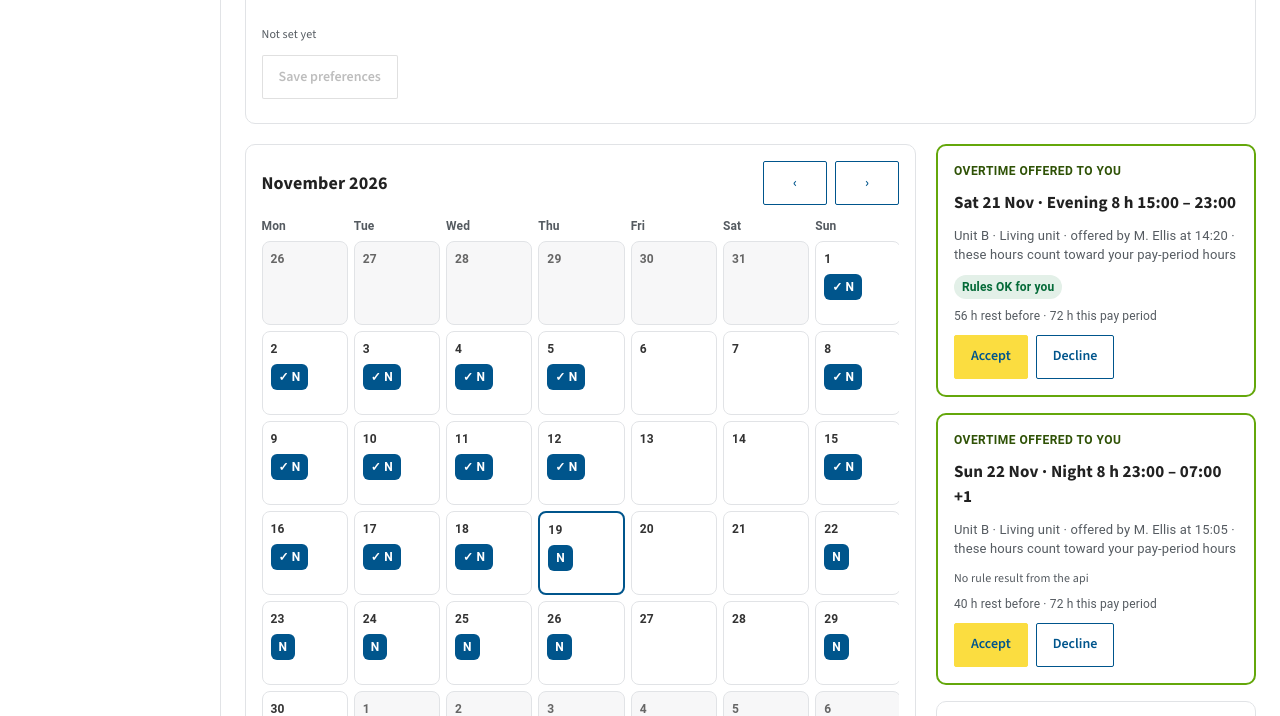
Test: the employee My schedule › records the decline
(page scrolled)
Click the button "Decline" below "56 h rest before · 72 h this pay period" at (1075, 357), box [1036,335,1114,379]
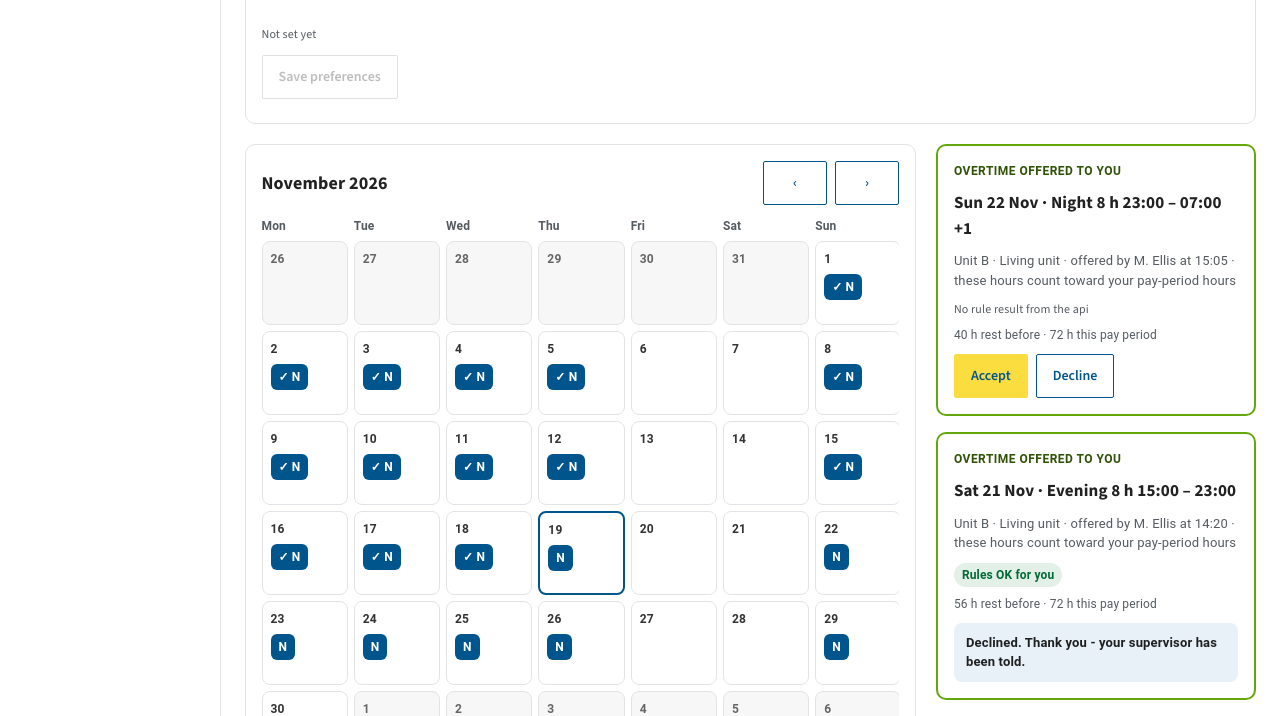
Result: the text "Declined. Thank you - your supervisor has been told." is shown at [954,623,1238,682]
